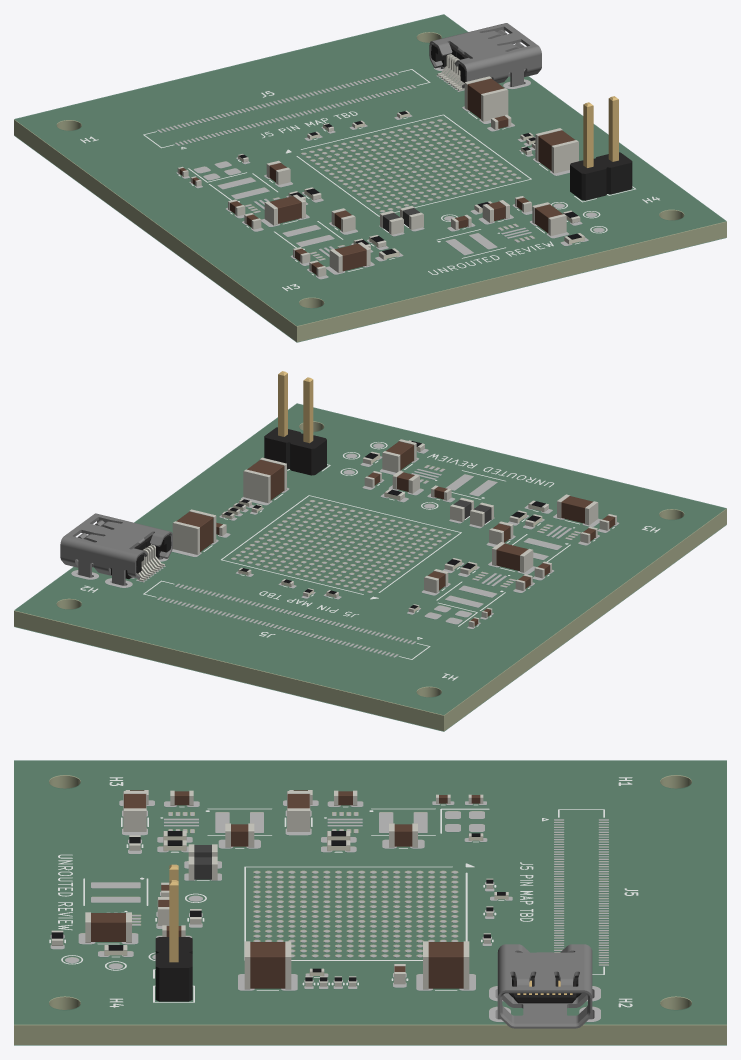
File: fpga50t.glb
3 renders of one model, top to bottom at view 1: azimuth 30°, elevation 25°; view 2: azimuth 150°, elevation 25°; view 3: azimuth 270°, elevation 25°, orthographic. The views are drawn at different scales.
Parts seen in each view (by area): view 1: =>[0:1:1:31], =>[0:1:1:29], =>[0:1:1:26], =>[0:1:1:9], =>[0:1:1:21], =>[0:1:1:7] (×2), =>[0:1:1:19] (×3), =>[0:1:1:27], =>[0:1:1:30]; view 2: =>[0:1:1:31], =>[0:1:1:29], =>[0:1:1:26], =>[0:1:1:9], =>[0:1:1:21], =>[0:1:1:7] (×2), =>[0:1:1:19] (×3), =>[0:1:1:27], =>[0:1:1:30]; view 3: =>[0:1:1:31], =>[0:1:1:29], =>[0:1:1:26], =>[0:1:1:9], =>[0:1:1:7] (×2), =>[0:1:1:27], =>[0:1:1:19] (×3), =>[0:1:1:21], =>[0:1:1:17] (×2), =>[0:1:1:30], =>[0:1:1:13].
Boxes of the visible parts, x1,y1,x2,y2 form: =>[0:1:1:31]: (14,15,726,342); =>[0:1:1:29]: (14,14,726,325); =>[0:1:1:26]: (157,67,604,279); =>[0:1:1:9]: (429,23,541,90); =>[0:1:1:21]: (570,96,632,200); =>[0:1:1:7] (×2): (464,76,578,173); =>[0:1:1:19] (×3): (264,194,566,272); =>[0:1:1:27]: (80,69,659,291); =>[0:1:1:30]: (14,135,726,342); =>[0:1:1:31]: (14,404,726,731); =>[0:1:1:29]: (14,403,726,715); =>[0:1:1:26]: (71,443,618,657); =>[0:1:1:9]: (60,513,172,585); =>[0:1:1:21]: (264,371,326,475); =>[0:1:1:7] (×2): (172,457,286,554); =>[0:1:1:19] (×3): (382,439,598,572); =>[0:1:1:27]: (80,442,660,680); =>[0:1:1:30]: (14,524,726,731); =>[0:1:1:31]: (14,761,726,1044); =>[0:1:1:29]: (14,760,726,1024); =>[0:1:1:26]: (50,800,608,1021); =>[0:1:1:9]: (497,944,592,1028); =>[0:1:1:7] (×2): (244,941,469,989); =>[0:1:1:27]: (49,777,638,1007); =>[0:1:1:19] (×3): (85,791,310,942); =>[0:1:1:21]: (155,864,192,1001); =>[0:1:1:17] (×2): (225,823,417,847); =>[0:1:1:30]: (14,1045,726,1045); =>[0:1:1:13]: (188,856,217,880).
Size of the model in its own units: 0.0437 by 0.0127 by 0.049.
